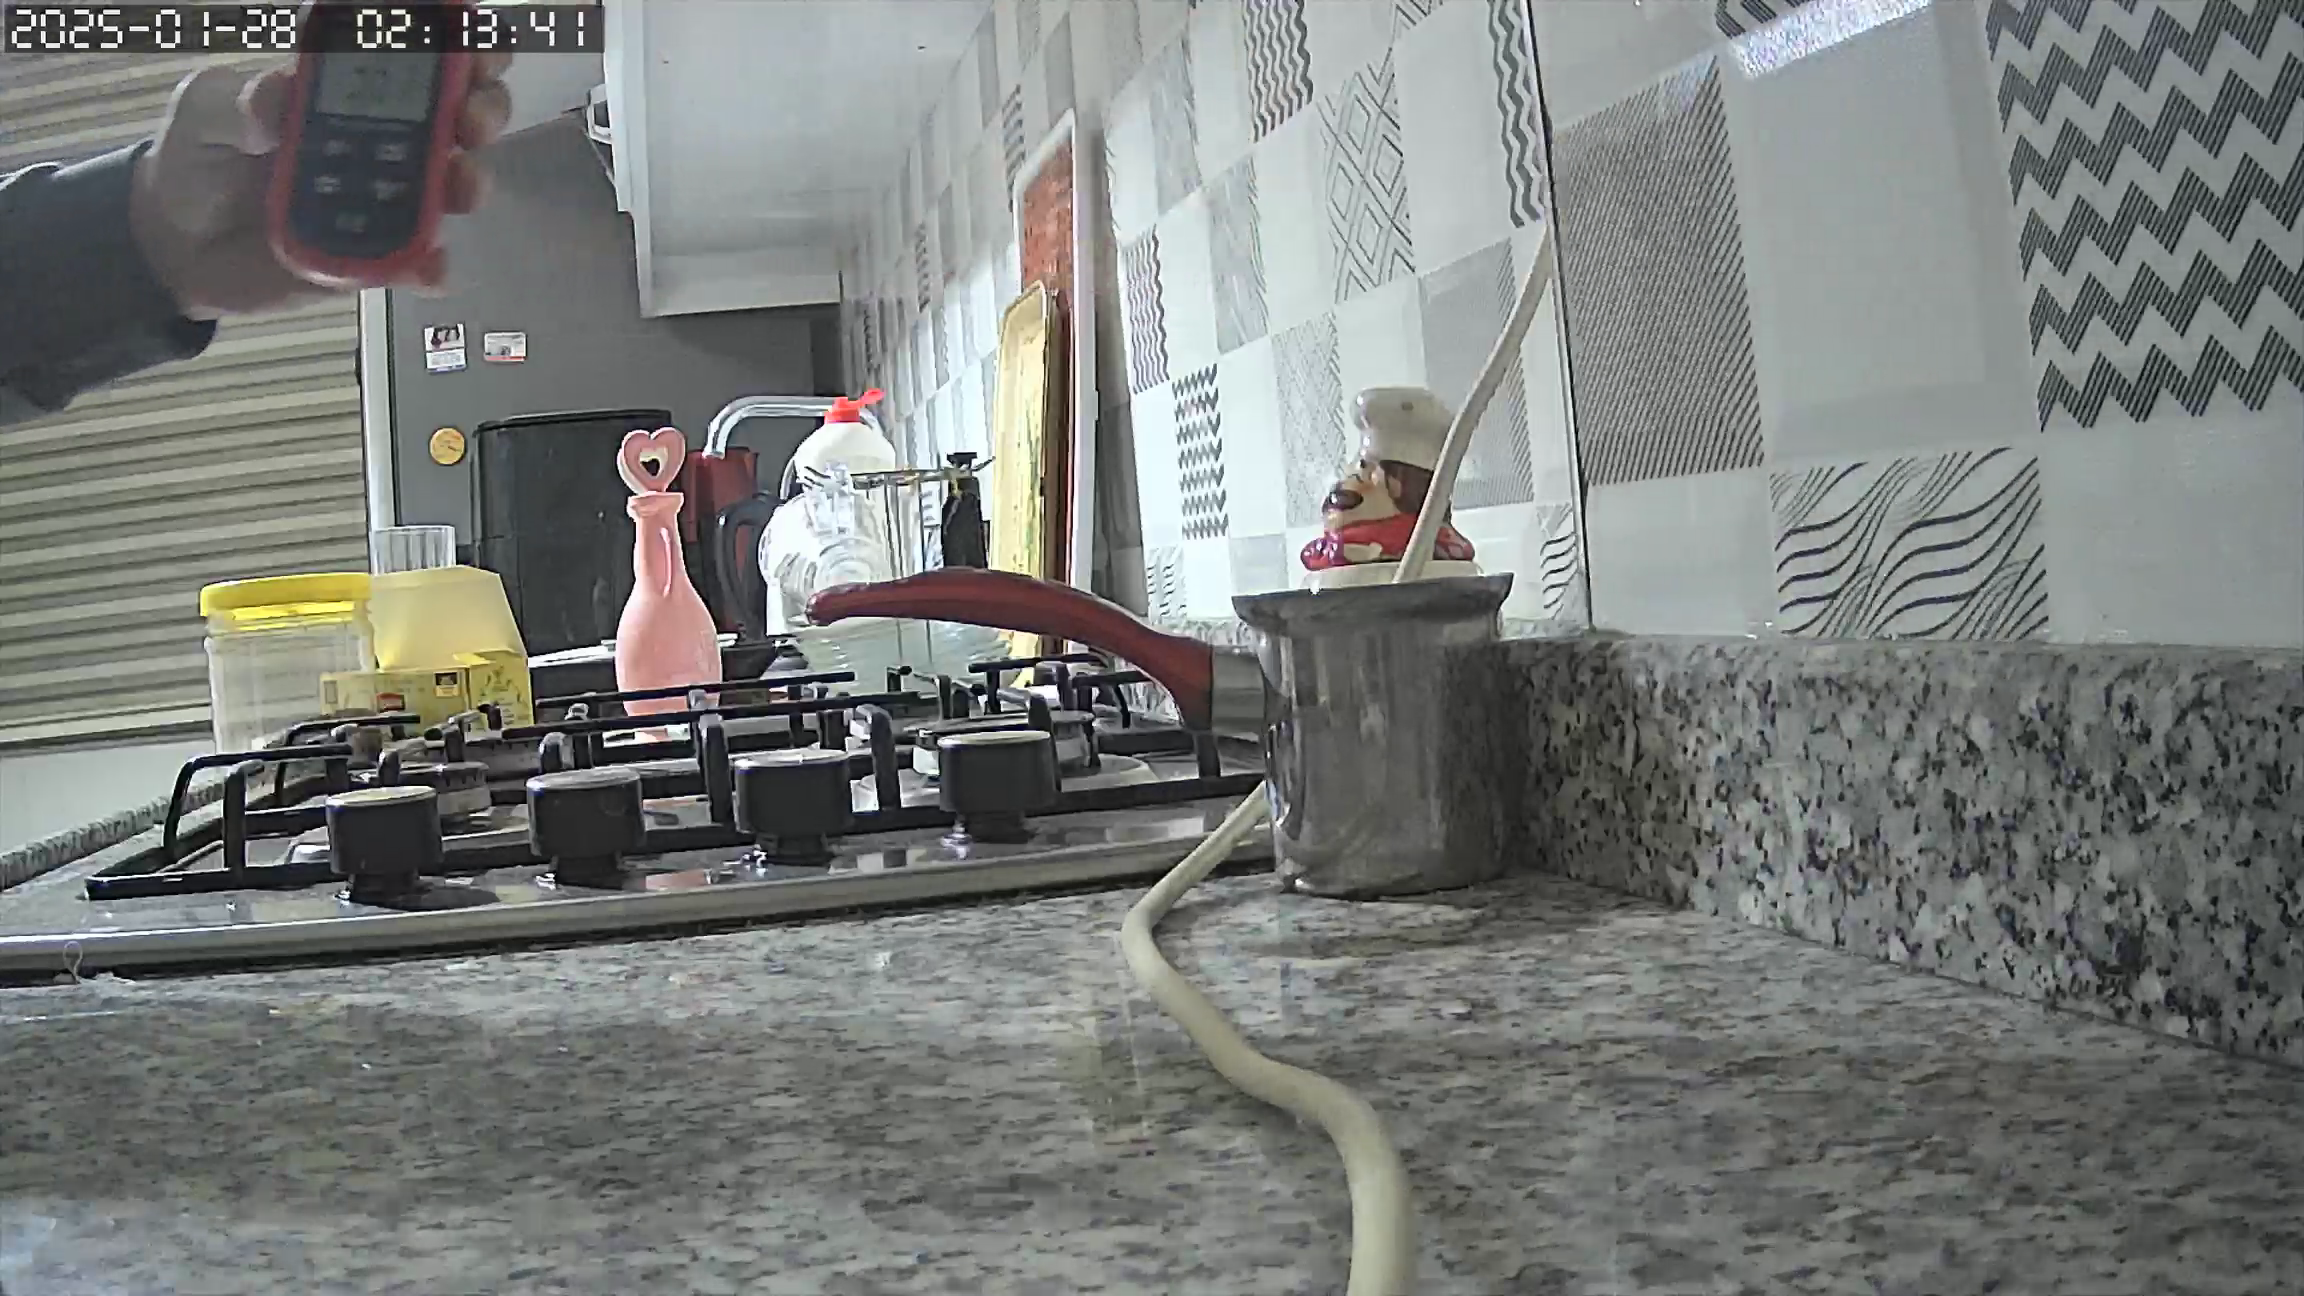screen: (316, 51, 438, 120)
